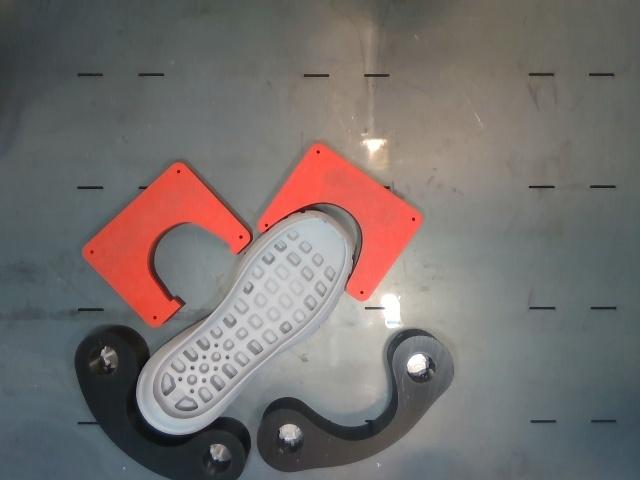shoes: (153, 219, 346, 419)
